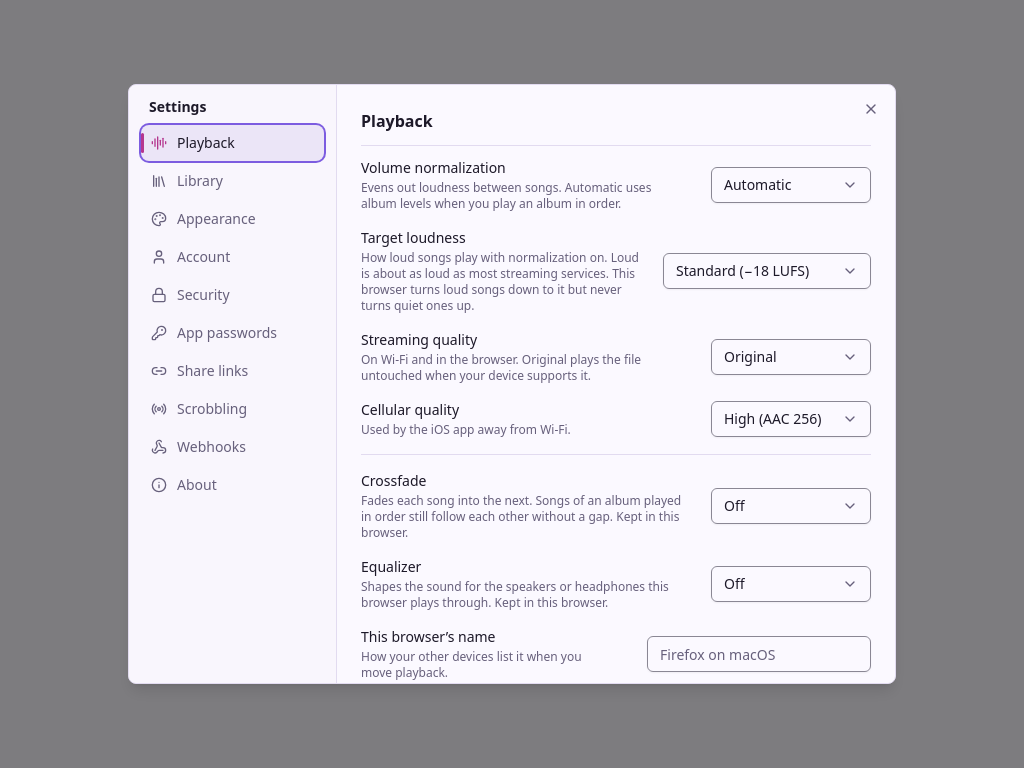
Test: SettingsDialog › switches to Library
Click the button "Library": [232, 181] box x1=141 y1=163 x2=324 y2=199
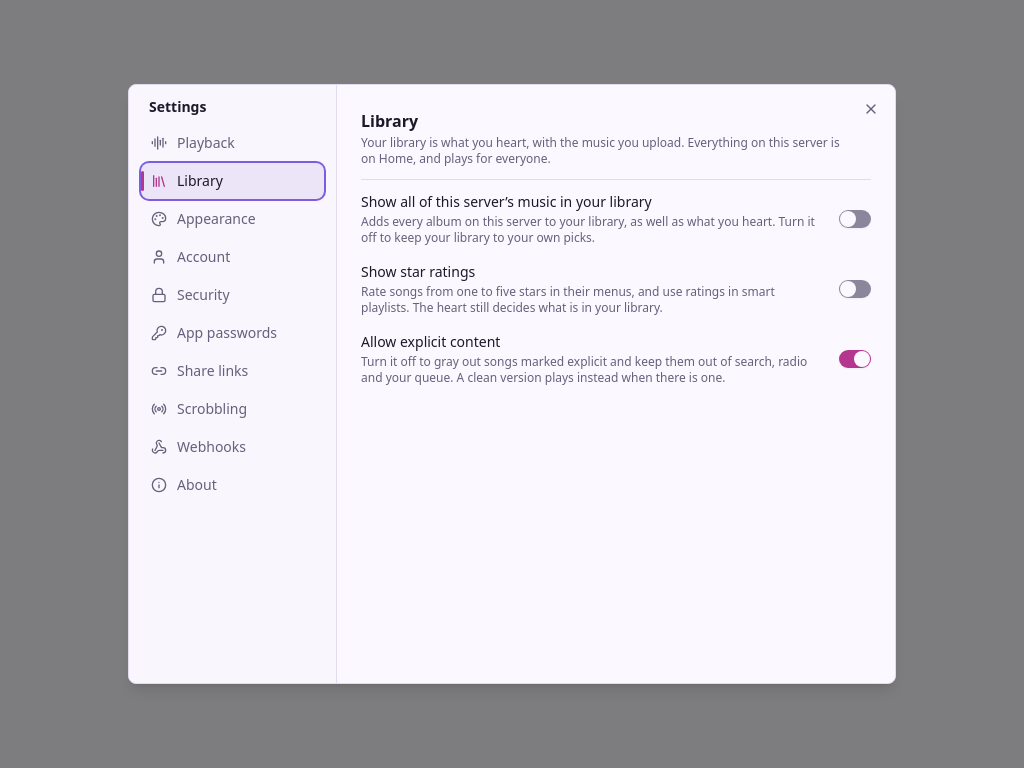
Check: the button "Library" is marked as current, box x1=141 y1=163 x2=324 y2=199
